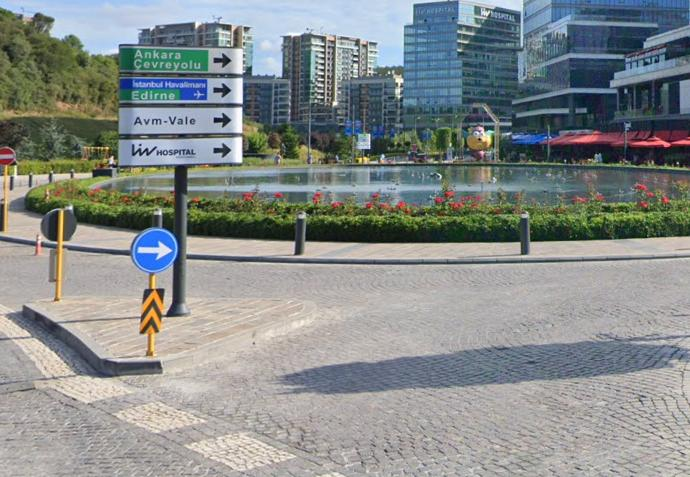turnright: (132, 227, 179, 272)
